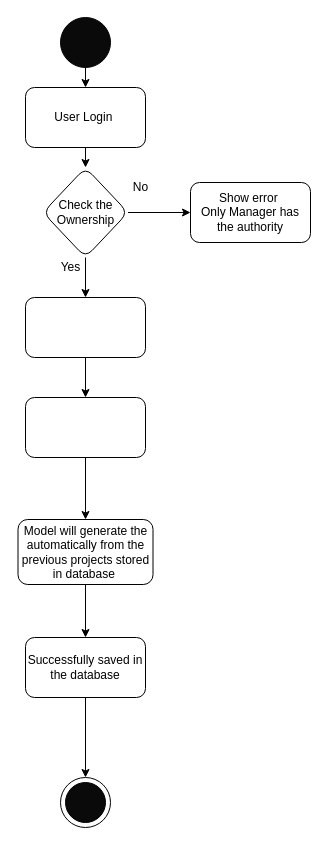
Some shapes in this 328 by 845 pixel diagram are drawn without their labels. Here are the shapes that lost their labels. From the top down, the centre of each, then its label:
At [85,327]: "Click on Machine Learning Estimation Method Button".
At [85,427]: "Fill form of the Estimation Method".
